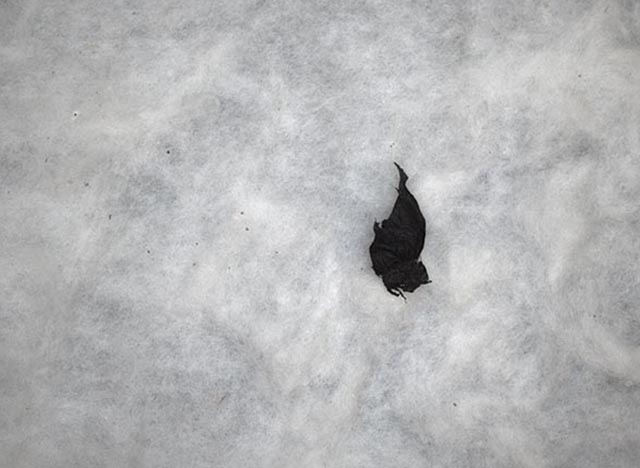plastic film: (369, 162, 433, 301)
